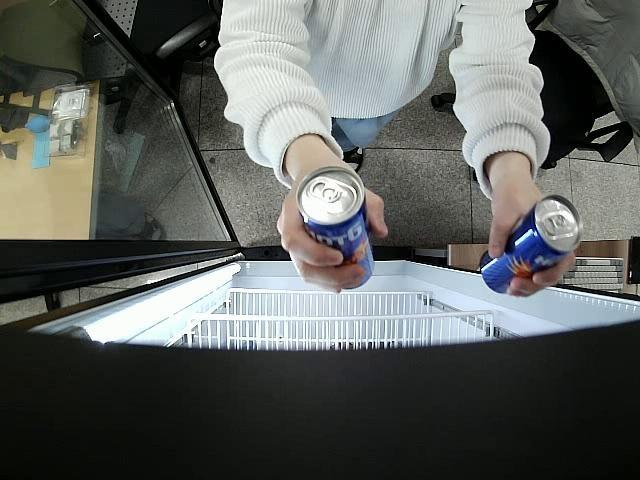16_hot6: (479, 192, 582, 294), (296, 166, 376, 288)
